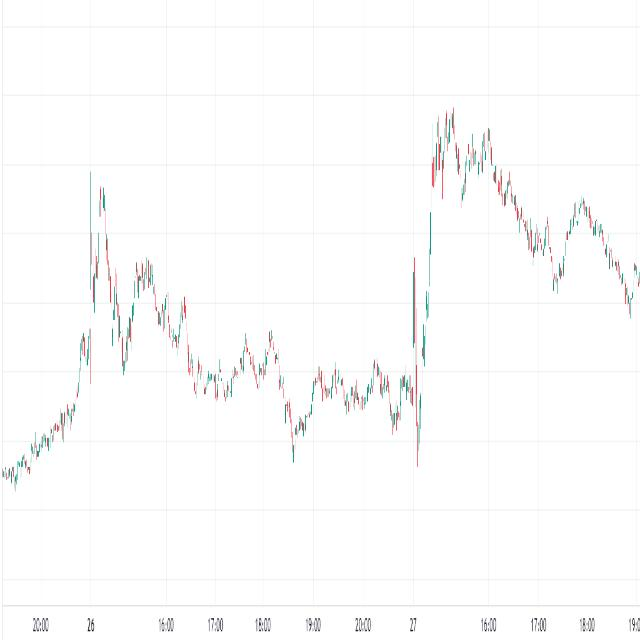Descending-Triangle: (85, 129, 225, 382)
